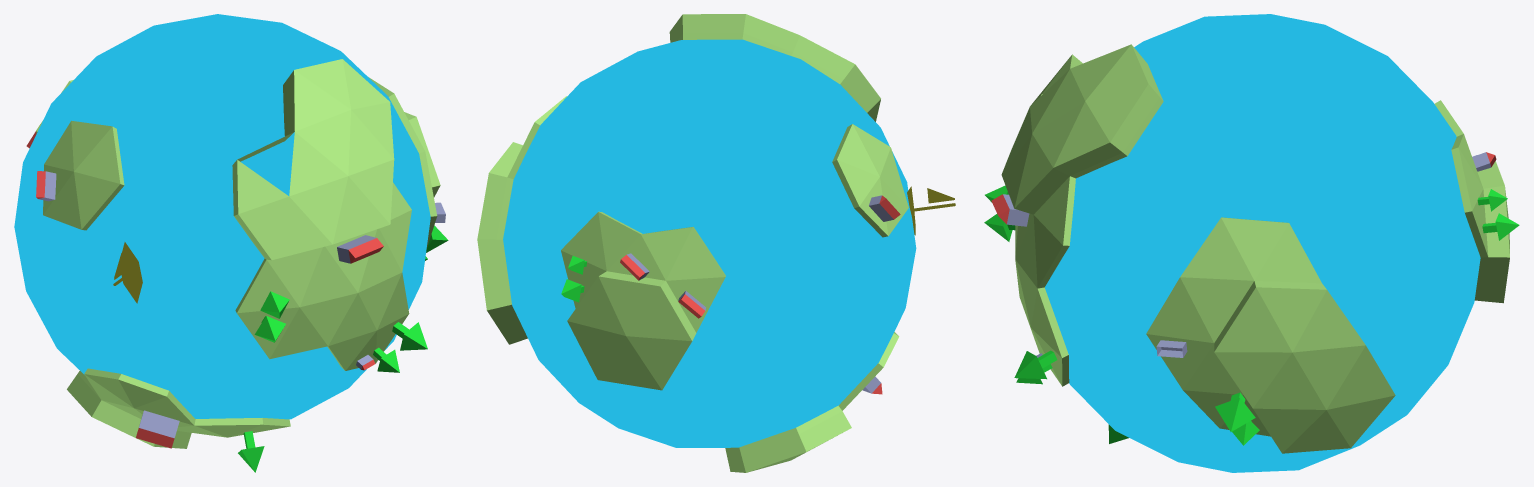
The model's file is world_2.glb.
3 renders of one model, left to right at view 1: azimuth 30°, elevation 25°; view 2: azimuth 150°, elevation 25°; view 3: azimuth 270°, elevation 25°, orthographic. The views are drawn at different scales.
Parts seen in each view (by area): view 1: Icosphere.001_1, Icosphere_0, Plane.001_49, Plane.036_37, Plane.046_42, Plane.029_29, Plane.043_48, Plane.015_15, Plane.007_6, Plane.006_5, Plane.028_28; view 2: Icosphere.001_1, Icosphere_0, Plane.036_37, Plane.043_48; view 3: Icosphere.001_1, Icosphere_0, Plane.026_26, Plane.029_29, Plane.046_42.
Part boxes in pixels (<box>): Icosphere.001_1: <box>14,14,430,419</box>; Icosphere_0: <box>36,59,440,448</box>; Plane.001_49: <box>136,410,179,448</box>; Plane.036_37: <box>113,242,142,303</box>; Plane.046_42: <box>337,235,383,263</box>; Plane.029_29: <box>392,322,427,350</box>; Plane.043_48: <box>36,171,56,201</box>; Plane.015_15: <box>238,431,264,472</box>; Plane.007_6: <box>254,316,285,342</box>; Plane.006_5: <box>260,291,289,318</box>; Plane.028_28: <box>373,347,399,372</box>; Icosphere.001_1: <box>503,39,916,447</box>; Icosphere_0: <box>477,14,908,472</box>; Plane.036_37: <box>907,186,955,235</box>; Plane.043_48: <box>869,195,900,221</box>; Icosphere.001_1: <box>1045,14,1480,472</box>; Icosphere_0: <box>1001,44,1509,453</box>; Plane.026_26: <box>1215,392,1255,431</box>; Plane.029_29: <box>1014,350,1057,379</box>; Plane.046_42: <box>991,194,1029,226</box>.
Bounding box in the file's own units: 2.4 × 2.22 × 2.46.
